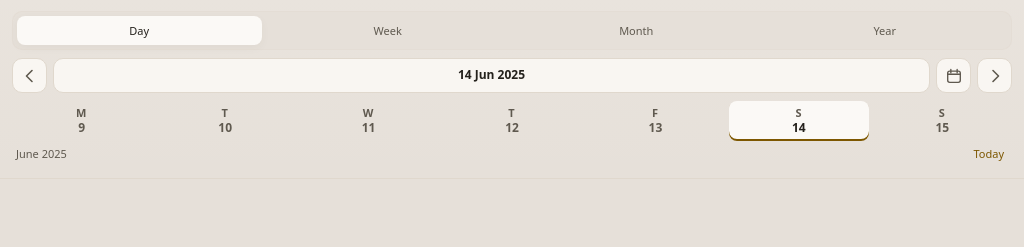
the expandable calendar › carries its expanded state and reveals the month the core placed
The width and height of the screenshot is (1024, 247).
Click the button named "Show the surrounding month": [954, 76] box [936, 58, 971, 93]
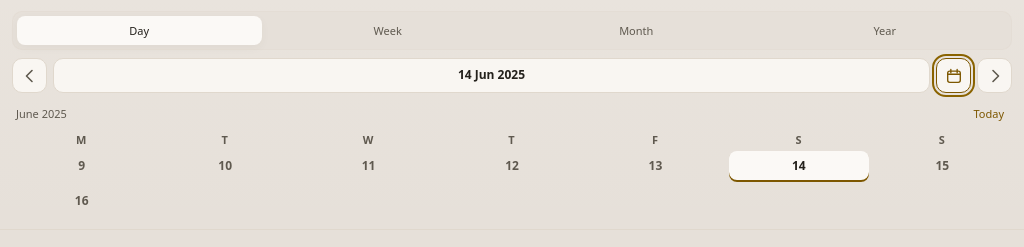
Check: the element named "Month around the selected date" is shown, box [12, 101, 1012, 217]
Check: the button named "Show one week only" is expanded, box [936, 58, 971, 93]
